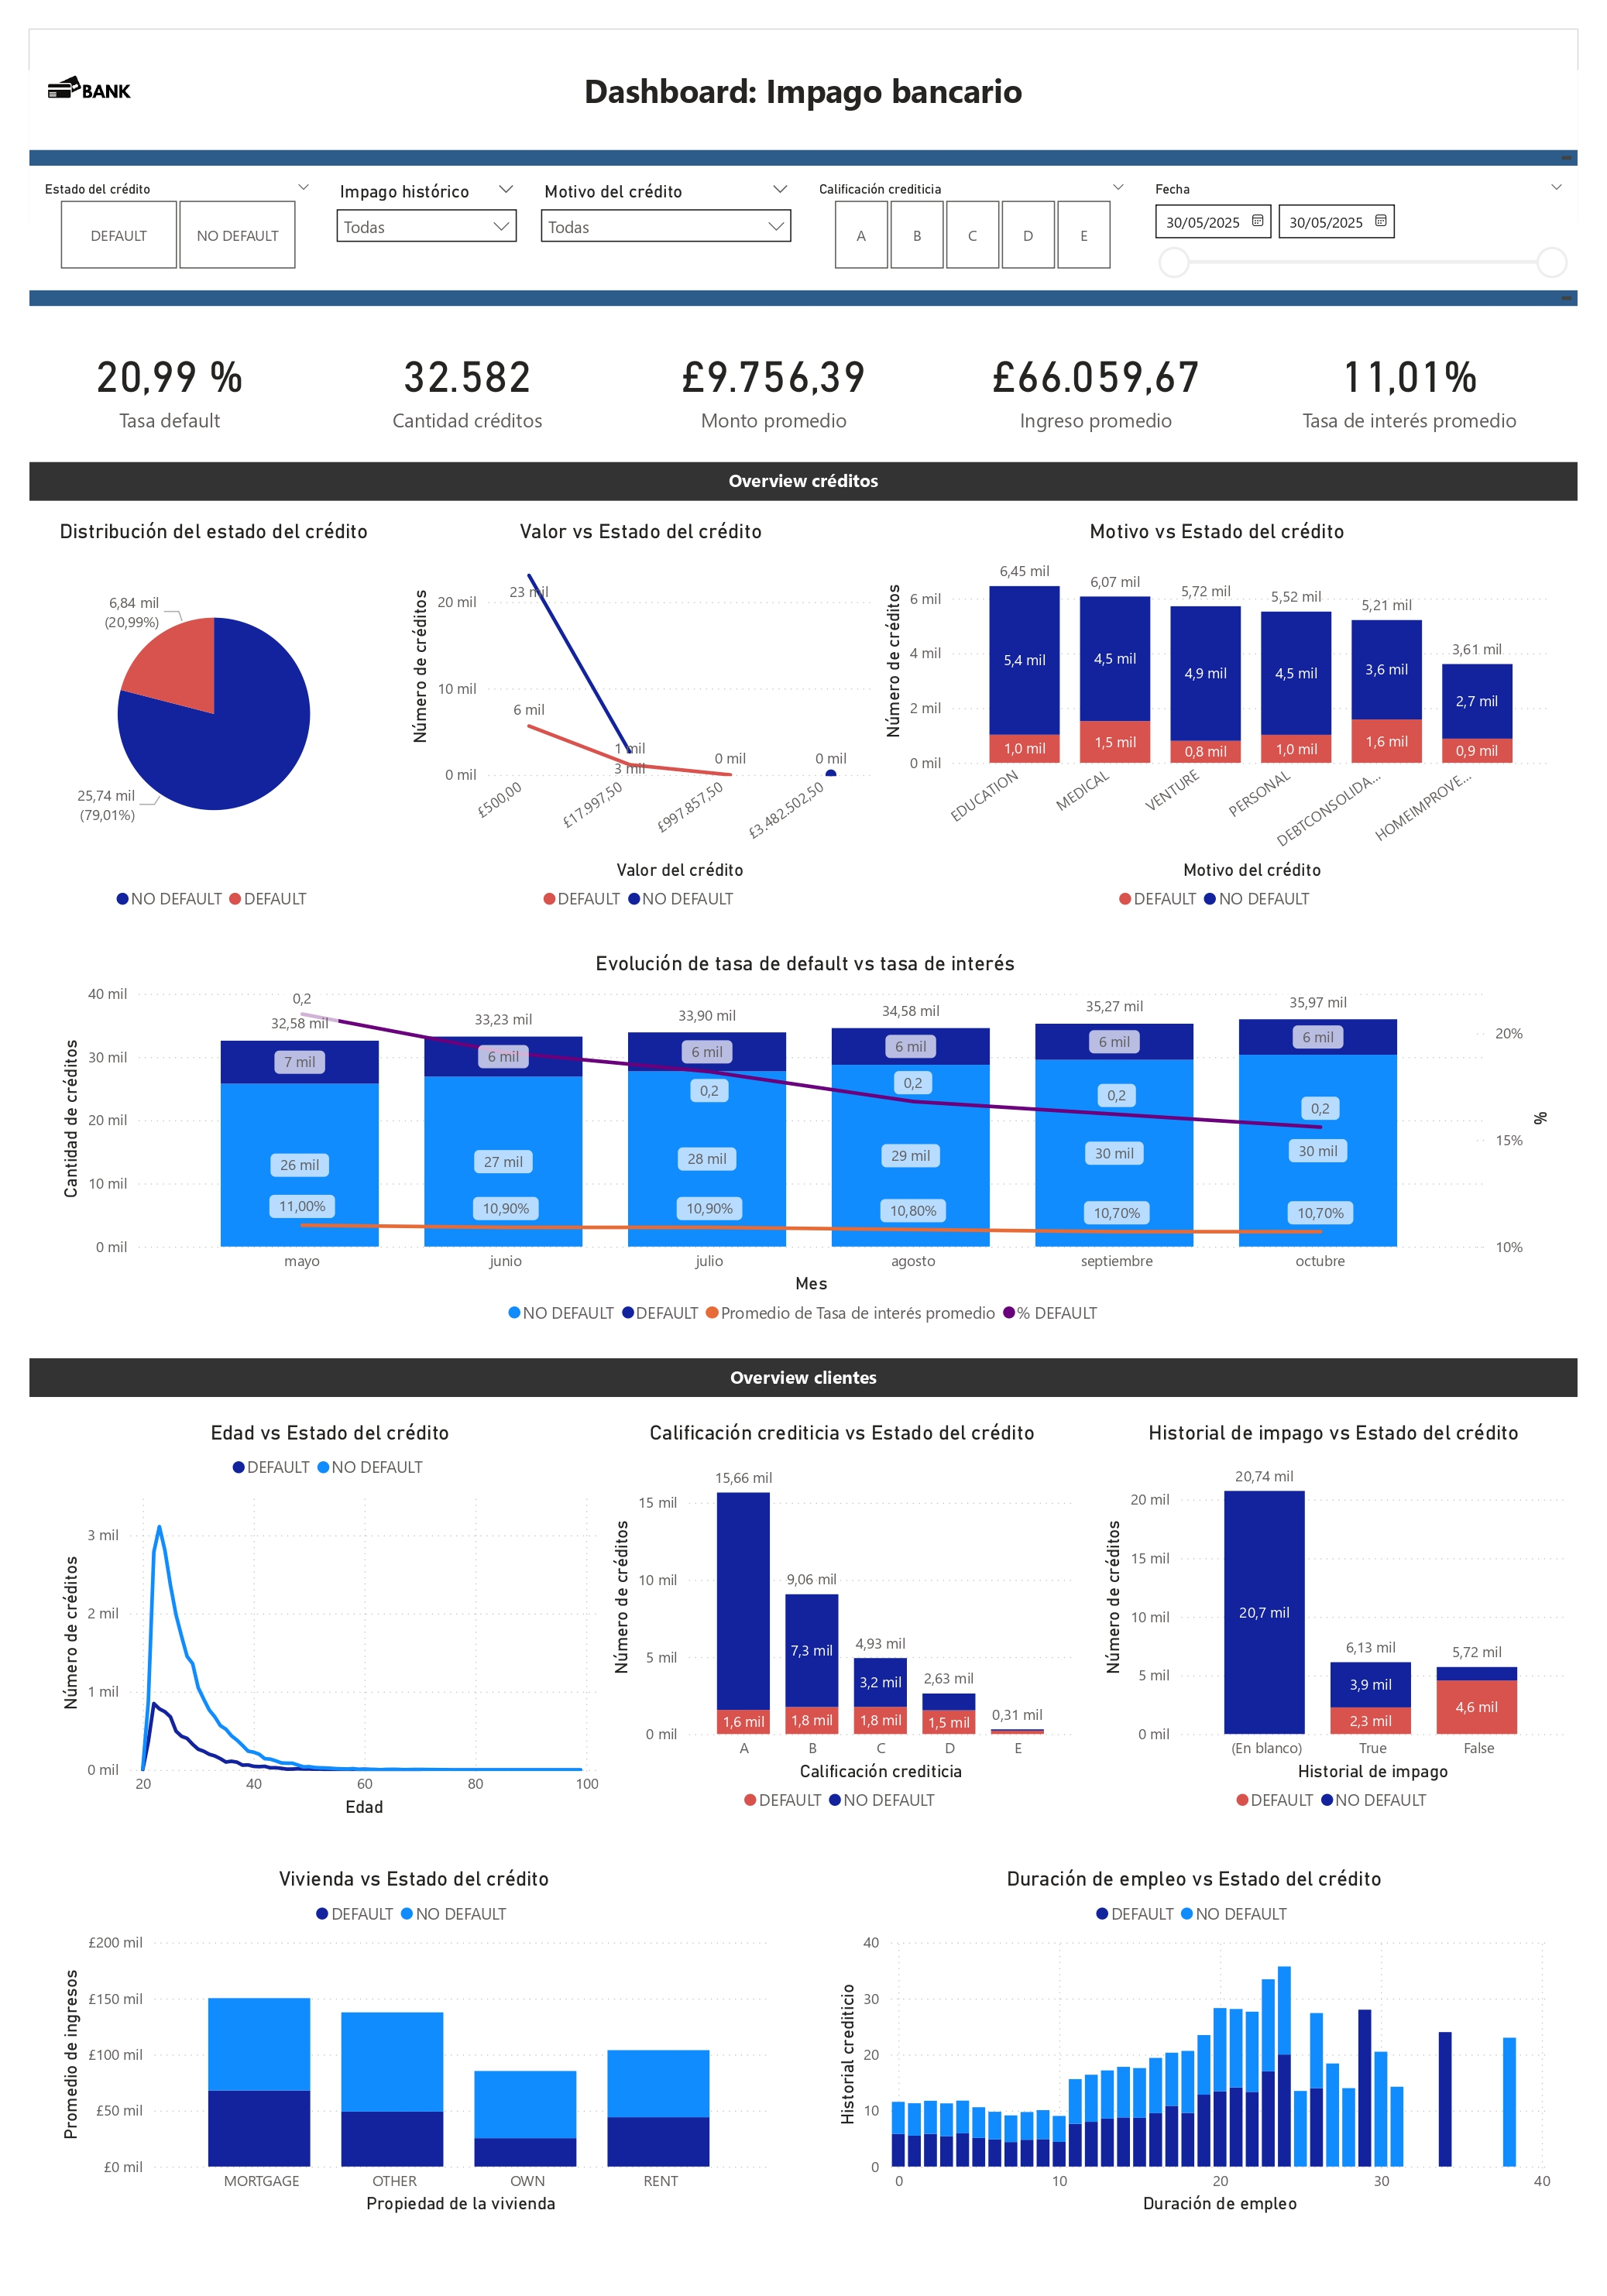

The page's visual inventory and layout, read from the dashboard file:
{"tool":"powerbi","page":{"name":"Negocio","canvas":[1280,1850],"ordinal":0},"visuals":[{"type":"textbox","box":[0,27.3,1280,72.3],"z":0},{"type":"image","box":[0,0,99,99],"z":1000},{"type":"textbox","box":[0,100,1280,12.5],"z":2000},{"type":"slicer","fields":{"Values":["LoanDataset - LoansDatasest.Current_loan_status"]},"box":[0,121.2,243.8,83.8],"z":3000},{"type":"slicer","fields":{"Values":["LoanDataset - LoansDatasest.historical_default"]},"box":[243.8,121.2,168.8,83.8],"z":4000},{"type":"slicer","fields":{"Values":["LoanDataset - LoansDatasest.loan_intent"]},"box":[412.5,121.2,227.5,83.8],"z":5000},{"type":"slicer","fields":{"Values":["LoanDataset - LoansDatasest.loan_grade"]},"box":[640,121.2,277.5,83.8],"z":6000},{"type":"slicer","fields":{"Values":["LoanDataset - LoansDatasest.date"]},"box":[917.5,121.2,362.5,95],"z":7000},{"type":"textbox","box":[0,216.2,1280,12.5],"z":8000},{"type":"card","fields":{"Values":["Medidas.Tasa default"]},"box":[21.2,247.5,190,93.8],"z":9000},{"type":"card","fields":{"Values":["CountNonNull(LoanDataset.customer_id)"]},"box":[266.2,247.5,191.2,93.8],"z":10000},{"type":"card","fields":{"Values":["Medidas.Monto promedio"]},"box":[512.5,247.5,205,93.8],"z":11000},{"type":"card","fields":{"Values":["Medidas.Ingreso promedio"]},"box":[772.5,247.5,218.8,93.8],"z":12000},{"type":"card","fields":{"Values":["Medidas.Tasa de interés promedio"]},"box":[1046.2,247.5,190,93.8],"z":13000},{"type":"textbox","box":[0,357.5,1280,32.5],"z":14000},{"type":"pieChart","title":"Distribución del estado del crédito","fields":{"Y":["CountNonNull(LoanDataset.Current_loan_status)"],"Category":["LoanDataset.Current_loan_status"]},"box":[18.8,405,267.5,332.5],"z":15000},{"type":"lineChart","title":"Valor vs Estado del crédito","fields":{"Series":["LoanDataset.Current_loan_status"],"Category":["LoanDataset.loan_amnt (ubicaciones)"],"Y":["CountNonNull(LoanDataset.Current_loan_status)"]},"box":[310.3,404.6,390.8,333.3],"z":16000},{"type":"columnChart","title":"Motivo vs Estado del crédito","fields":{"Series":["LoanDataset.Current_loan_status"],"Y":["CountNonNull(LoanDataset.loan_intent)"],"Category":["LoanDataset.loan_intent"]},"box":[701.2,405,561.2,332.5],"z":17000},{"type":"lineStackedColumnComboChart","title":"Evolución de tasa de default vs tasa de interés","fields":{"Category":["LoanDataset.date.Variación.Jerarquía de fechas.Año","LoanDataset.date.Variación.Jerarquía de fechas.Trimestre","LoanDataset.date.Variación.Jerarquía de fechas.Mes"],"Y2":["Avg(LoanDataset.int_rate)"],"Y":["CountNonNull(LoanDataset.Current_loan_status)"],"Series":["LoanDataset.Current_loan_status"]},"box":[18.8,761.2,1241.2,318.8],"z":18000},{"type":"textbox","box":[0,1098.8,1280,32.5],"z":19000},{"type":"lineChart","title":"Edad vs Estado del crédito","fields":{"Category":["LoanDataset.customer_age"],"Y":["CountNonNull(LoanDataset.Current_loan_status)"],"Series":["LoanDataset.Current_loan_status"]},"box":[21.2,1150,455,332.5],"z":20000},{"type":"columnChart","title":"Vivienda vs Estado del crédito","fields":{"Category":["LoanDataset.home_ownership"],"Y":["Avg(LoanDataset.customer_income)"],"Series":["LoanDataset.Current_loan_status"]},"box":[21.2,1518.8,593.8,292.5],"z":21000},{"type":"columnChart","title":"Calificación crediticia vs Estado del crédito","fields":{"Series":["LoanDataset.Current_loan_status"],"Category":["LoanDataset.loan_grade"],"Y":["CountNonNull(LoanDataset.loan_grade)"]},"box":[476.2,1150,391.2,332.5],"z":22000},{"type":"columnChart","title":"Historial de impago vs Estado del crédito","fields":{"Series":["LoanDataset.Current_loan_status"],"Y":["CountNonNull(LoanDataset.loan_grade)"],"Category":["LoanDataset.historical_default"]},"box":[882.5,1150,391.2,332.5],"z":23000},{"type":"columnChart","title":"Duración de empleo vs Estado del crédito","fields":{"Category":["LoanDataset.employment_duration"],"Y":["Avg(LoanDataset.cred_hist_length)"],"Series":["LoanDataset.Current_loan_status"]},"box":[662.5,1518.8,600,292.5],"z":24000},{"type":"lineStackedColumnComboChart","title":"Evolución de tasa de default vs tasa de interés","fields":{"Y":["Sum(Evolutivo.NO DEFAULT)","Sum(Evolutivo.DEFAULT)"],"Y2":["Avg(Evolutivo.Tasa de interés promedio)","Avg(Evolutivo.% DEFAULT)"],"Category":["Evolutivo.Num mes.Variación.Jerarquía de fechas.Mes"]},"box":[20.7,762.1,1241.4,318.4],"z":25000}]}

Visuals, with their boxes in screenshot pixels (x1, y1, x2, y2):
textbox: 29 62 1578 149
image: 29 29 149 149
textbox: 29 150 1578 165
slicer - LoanDataset - LoansDatasest.Current_loan_status: 29 176 324 277
slicer - LoanDataset - LoansDatasest.historical_default: 324 176 528 277
slicer - LoanDataset - LoansDatasest.loan_intent: 528 176 804 277
slicer - LoanDataset - LoansDatasest.loan_grade: 804 176 1139 277
slicer - LoanDataset - LoansDatasest.date: 1139 176 1578 290
textbox: 29 290 1578 306
card - Medidas.Tasa default: 55 328 285 442
card - CountNonNull(LoanDataset.customer_id): 351 328 582 442
card - Medidas.Monto promedio: 649 328 898 442
card - Medidas.Ingreso promedio: 964 328 1228 442
card - Medidas.Tasa de interés promedio: 1295 328 1525 442
textbox: 29 462 1578 501
"Distribución del estado del crédito" pieChart: 52 519 376 921
"Valor vs Estado del crédito" lineChart: 404 519 877 921
"Motivo vs Estado del crédito" columnChart: 877 519 1557 921
"Evolución de tasa de default vs tasa de interés" lineStackedColumnComboChart: 52 950 1554 1336
textbox: 29 1358 1578 1398
"Edad vs Estado del crédito" lineChart: 55 1420 606 1822
"Vivienda vs Estado del crédito" columnChart: 55 1866 773 2220
"Calificación crediticia vs Estado del crédito" columnChart: 606 1420 1079 1822
"Historial de impago vs Estado del crédito" columnChart: 1097 1420 1571 1822
"Duración de empleo vs Estado del crédito" columnChart: 831 1866 1557 2220
"Evolución de tasa de default vs tasa de interés" lineStackedColumnComboChart: 54 951 1557 1336
